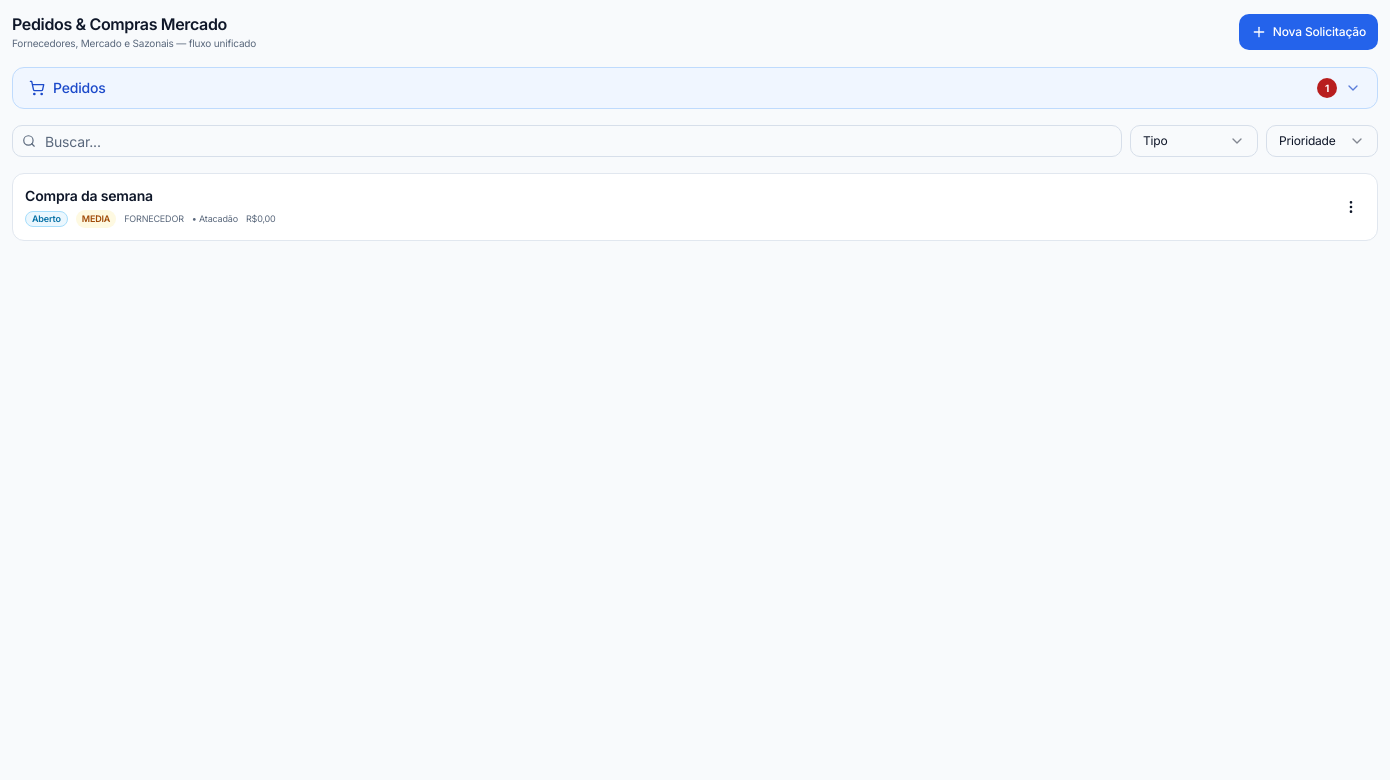
recebimento com entrada no estoque opcional › item recebido sem entrada fica identificado
The width and height of the screenshot is (1390, 780).
Click the text "Compra da semana" at (89, 196), box [25,186,153,206]
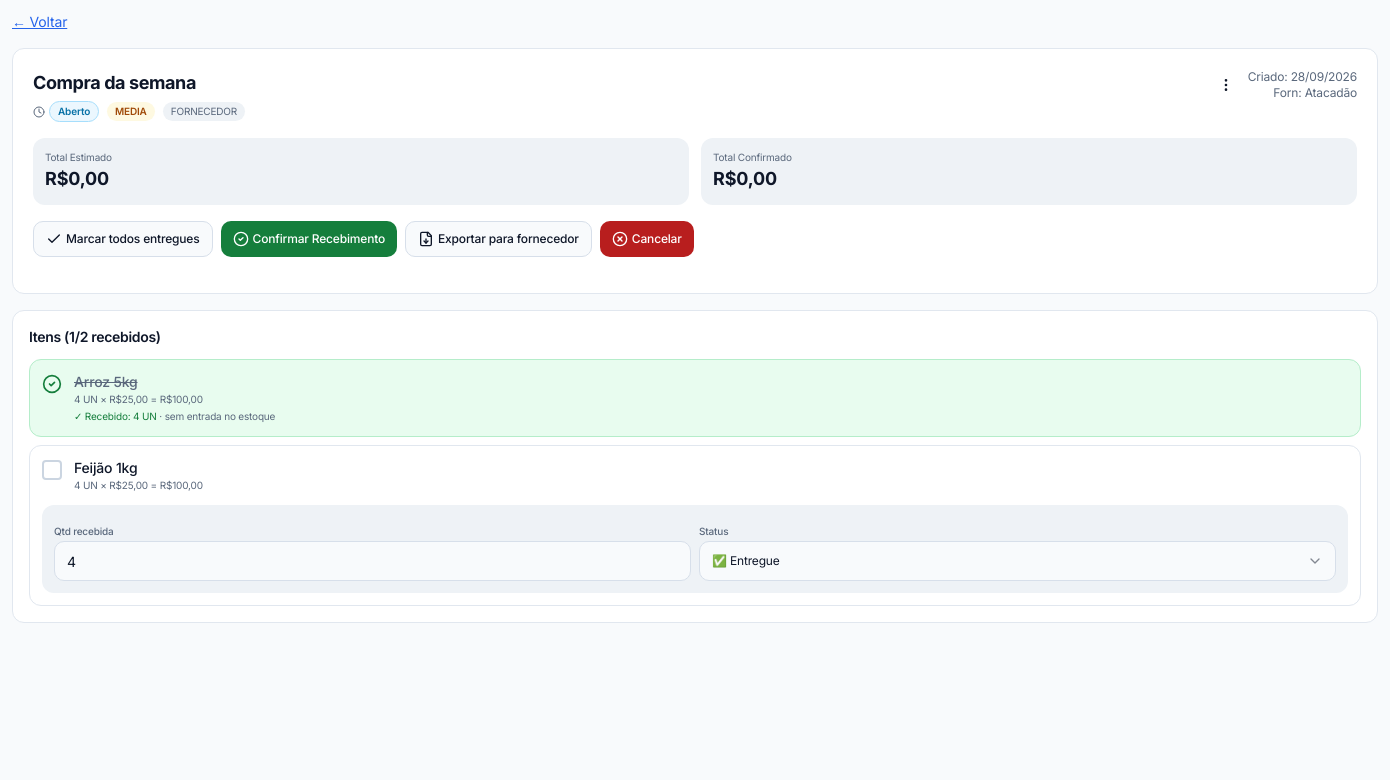
Now the button "Confirmar Recebimento" is shown, box [220,221,397,257]
Now the text "· sem entrada no estoque" is shown, box [157,410,275,422]
